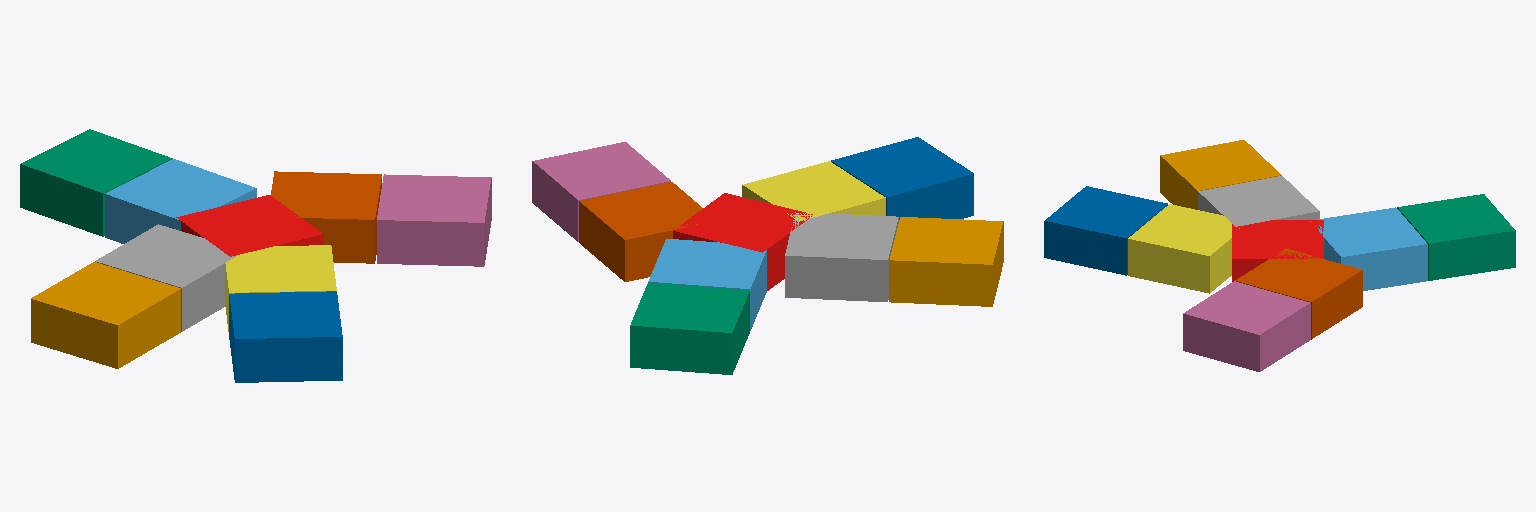
URDF robot description (Model_186):
<?xml version='1.0' encoding='UTF-8'?>
<robot name="Model_186">
  <link name="base_link">
    <inertial>
      <origin xyz="0.0 0.0 0.0" rpy="0.0 -0.0 0.0"/>
      <mass value="1.0"/>
      <inertia ixx="1.0" ixy="0.0" ixz="0.0" iyy="1.0" iyz="0.0" izz="1.0"/>
    </inertial>
    <visual>
      <geometry>
        <box size="0.67 0.67 0.3 "/>
      </geometry>
      <material name="red"/>
      <origin xyz="0.0 0.0 0.0" rpy="0.0 -0.0 0.0"/>
    </visual>
    <collision>
      <geometry>
        <box size="0.67 0.67 0.3 "/>
      </geometry>
      <origin xyz="0.0 0.0 0.0" rpy="0.0 0.0 0.0"/>
    </collision>
  </link>
  <link name="arm_0_arm1">
    <inertial>
      <origin xyz="0.0 0.34 0.0" rpy="0.0 0.0 0.0"/>
      <mass value="1.0"/>
      <inertia ixx="0.0" ixy="0.0" ixz="0.0" iyy="0.0" iyz="0.0" izz="0.0"/>
    </inertial>
    <visual>
      <geometry>
        <box size="0.67 0.67 0.3 "/>
      </geometry>
      <origin xyz="0.0 0.34 0.0" rpy="0.0 0.0 0.0"/>
    </visual>
    <collision>
      <geometry>
        <box size="0.67 0.67 0.3 "/>
      </geometry>
      <origin xyz="0.0 0.34 0.0" rpy="0.0 0.0 0.0"/>
    </collision>
  </link>
  <link name="arm_0_arm2">
    <inertial>
      <origin xyz="0.0 0.34 0.0" rpy="0.0 0.0 0.0"/>
      <mass value="1.0"/>
      <inertia ixx="0.0" ixy="0.0" ixz="0.0" iyy="0.0" iyz="0.0" izz="0.0"/>
    </inertial>
    <visual>
      <geometry>
        <box size="0.67 0.67 0.3 "/>
      </geometry>
      <origin xyz="0.0 0.34 0.0" rpy="0.0 0.0 0.0"/>
    </visual>
    <collision>
      <geometry>
        <box size="0.67 0.67 0.3 "/>
      </geometry>
      <origin xyz="0.0 0.34 0.0" rpy="0.0 0.0 0.0"/>
    </collision>
  </link>
  <link name="arm_1_arm1">
    <inertial>
      <origin xyz="0.0 0.34 0.0" rpy="0.0 0.0 0.0"/>
      <mass value="1.0"/>
      <inertia ixx="0.0" ixy="0.0" ixz="0.0" iyy="0.0" iyz="0.0" izz="0.0"/>
    </inertial>
    <visual>
      <geometry>
        <box size="0.67 0.67 0.3 "/>
      </geometry>
      <origin xyz="0.0 0.34 0.0" rpy="0.0 0.0 0.0"/>
    </visual>
    <collision>
      <geometry>
        <box size="0.67 0.67 0.3 "/>
      </geometry>
      <origin xyz="0.0 0.34 0.0" rpy="0.0 0.0 0.0"/>
    </collision>
  </link>
  <link name="arm_1_arm2">
    <inertial>
      <origin xyz="0.0 0.34 0.0" rpy="0.0 0.0 0.0"/>
      <mass value="1.0"/>
      <inertia ixx="0.0" ixy="0.0" ixz="0.0" iyy="0.0" iyz="0.0" izz="0.0"/>
    </inertial>
    <visual>
      <geometry>
        <box size="0.67 0.67 0.3 "/>
      </geometry>
      <origin xyz="0.0 0.34 0.0" rpy="0.0 0.0 0.0"/>
    </visual>
    <collision>
      <geometry>
        <box size="0.67 0.67 0.3 "/>
      </geometry>
      <origin xyz="0.0 0.34 0.0" rpy="0.0 0.0 0.0"/>
    </collision>
  </link>
  <link name="arm_2_arm1">
    <inertial>
      <origin xyz="0.0 0.34 0.0" rpy="0.0 0.0 0.0"/>
      <mass value="1.0"/>
      <inertia ixx="0.0" ixy="0.0" ixz="0.0" iyy="0.0" iyz="0.0" izz="0.0"/>
    </inertial>
    <visual>
      <geometry>
        <box size="0.67 0.67 0.3 "/>
      </geometry>
      <origin xyz="0.0 0.34 0.0" rpy="0.0 0.0 0.0"/>
    </visual>
    <collision>
      <geometry>
        <box size="0.67 0.67 0.3 "/>
      </geometry>
      <origin xyz="0.0 0.34 0.0" rpy="0.0 0.0 0.0"/>
    </collision>
  </link>
  <link name="arm_2_arm2">
    <inertial>
      <origin xyz="0.0 0.34 0.0" rpy="0.0 0.0 0.0"/>
      <mass value="1.0"/>
      <inertia ixx="0.0" ixy="0.0" ixz="0.0" iyy="0.0" iyz="0.0" izz="0.0"/>
    </inertial>
    <visual>
      <geometry>
        <box size="0.67 0.67 0.3 "/>
      </geometry>
      <origin xyz="0.0 0.34 0.0" rpy="0.0 0.0 0.0"/>
    </visual>
    <collision>
      <geometry>
        <box size="0.67 0.67 0.3 "/>
      </geometry>
      <origin xyz="0.0 0.34 0.0" rpy="0.0 0.0 0.0"/>
    </collision>
  </link>
  <link name="arm_3_arm1">
    <inertial>
      <origin xyz="0.0 0.34 0.0" rpy="0.0 0.0 0.0"/>
      <mass value="1.0"/>
      <inertia ixx="0.0" ixy="0.0" ixz="0.0" iyy="0.0" iyz="0.0" izz="0.0"/>
    </inertial>
    <visual>
      <geometry>
        <box size="0.67 0.67 0.3 "/>
      </geometry>
      <origin xyz="0.0 0.34 0.0" rpy="0.0 0.0 0.0"/>
    </visual>
    <collision>
      <geometry>
        <box size="0.67 0.67 0.3 "/>
      </geometry>
      <origin xyz="0.0 0.34 0.0" rpy="0.0 0.0 0.0"/>
    </collision>
  </link>
  <link name="arm_3_arm2">
    <inertial>
      <origin xyz="0.0 0.34 0.0" rpy="0.0 0.0 0.0"/>
      <mass value="1.0"/>
      <inertia ixx="0.0" ixy="0.0" ixz="0.0" iyy="0.0" iyz="0.0" izz="0.0"/>
    </inertial>
    <visual>
      <geometry>
        <box size="0.67 0.67 0.3 "/>
      </geometry>
      <origin xyz="0.0 0.34 0.0" rpy="0.0 0.0 0.0"/>
    </visual>
    <collision>
      <geometry>
        <box size="0.67 0.67 0.3 "/>
      </geometry>
      <origin xyz="0.0 0.34 0.0" rpy="0.0 0.0 0.0"/>
    </collision>
  </link>
  <joint name="arm_0_jointBase" type="fixed">
    <limit effort="1.57" velocity="1.57" lower="-1.57" upper="1.57"/>
    <parent link="base_link"/>
    <child link="arm_0_arm1"/>
    <axis xyz="1. 0. 0."/>
    <origin xyz="0.0 0.34 0.0" rpy="0.0 0.0 0.35"/>
  </joint>
  <joint name="arm_0_joint1" type="revolute">
    <limit effort="1.57" velocity="1.57" lower="-1.57" upper="1.57"/>
    <parent link="arm_0_arm1"/>
    <child link="arm_0_arm2"/>
    <axis xyz="1. 0. 0."/>
    <origin xyz="0.0 0.68 0.0" rpy="0.0 0.0 0.0"/>
  </joint>
  <joint name="arm_1_jointBase" type="fixed">
    <limit effort="1.57" velocity="1.57" lower="-1.57" upper="1.57"/>
    <parent link="base_link"/>
    <child link="arm_1_arm1"/>
    <axis xyz="1. 0. 0."/>
    <origin xyz="0.0 -0.34 0.0" rpy="0.0 0.0 2.67"/>
  </joint>
  <joint name="arm_1_joint1" type="revolute">
    <limit effort="1.57" velocity="1.57" lower="-1.57" upper="1.57"/>
    <parent link="arm_1_arm1"/>
    <child link="arm_1_arm2"/>
    <axis xyz="1. 0. 0."/>
    <origin xyz="0.0 0.68 0.0" rpy="0.0 0.0 0.0"/>
  </joint>
  <joint name="arm_2_jointBase" type="fixed">
    <limit effort="1.57" velocity="1.57" lower="-1.57" upper="1.57"/>
    <parent link="base_link"/>
    <child link="arm_2_arm1"/>
    <axis xyz="1. 0. 0."/>
    <origin xyz="0.34 0.34 0.0" rpy="0.0 0.0 -2.16"/>
  </joint>
  <joint name="arm_2_joint1" type="revolute">
    <limit effort="1.57" velocity="1.57" lower="-1.57" upper="1.57"/>
    <parent link="arm_2_arm1"/>
    <child link="arm_2_arm2"/>
    <axis xyz="1. 0. 0."/>
    <origin xyz="0.0 0.68 0.0" rpy="0.0 0.0 0.0"/>
  </joint>
  <joint name="arm_3_jointBase" type="fixed">
    <limit effort="1.57" velocity="1.57" lower="-1.57" upper="1.57"/>
    <parent link="base_link"/>
    <child link="arm_3_arm1"/>
    <axis xyz="1. 0. 0."/>
    <origin xyz="-0.34 0.0 0.0" rpy="0.0 0.0 1.99"/>
  </joint>
  <joint name="arm_3_joint1" type="revolute">
    <limit effort="1.57" velocity="1.57" lower="-1.57" upper="1.57"/>
    <parent link="arm_3_arm1"/>
    <child link="arm_3_arm2"/>
    <axis xyz="1. 0. 0."/>
    <origin xyz="0.0 0.68 0.0" rpy="0.0 0.0 0.0"/>
  </joint>
  <material name="red">
    <color rgba="0.969 0.129 0.122 1.   "/>
  </material>
</robot>

--- What the picture shows (computed from the rendered views, not written in the file) ---
Views: 3 orthographic renders of the robot side by side, from view 1: azimuth 30°, elevation 25°; view 2: azimuth 150°, elevation 25°; view 3: azimuth 270°, elevation 25°.
Robot: Model_186 — 9 links, 8 joints (4 revolute, 4 fixed); root link base_link; default pose: all joints at 0.
Links seen in each view (by area): view 1: arm_3_arm2, arm_2_arm2, arm_1_arm2, arm_0_arm2, arm_2_arm1, arm_0_arm1, arm_3_arm1, base_link, arm_1_arm1; view 2: arm_0_arm2, arm_3_arm2, arm_3_arm1, arm_2_arm1, arm_1_arm2, arm_2_arm2, base_link, arm_0_arm1, arm_1_arm1; view 3: arm_2_arm2, arm_1_arm1, arm_0_arm2, arm_1_arm2, arm_0_arm1, arm_2_arm1, arm_3_arm2, arm_3_arm1, base_link.
Boxes of the visible links, x1,y1,x2,y2 form: arm_3_arm2: (31,262,180,368); arm_2_arm2: (377,174,491,266); arm_1_arm2: (229,291,342,382); arm_0_arm2: (20,129,172,236); arm_2_arm1: (271,171,381,263); arm_0_arm1: (105,159,256,243); arm_3_arm1: (95,224,237,331); base_link: (176,195,323,256); arm_1_arm1: (225,245,336,331); arm_0_arm2: (630,282,749,374); arm_3_arm2: (889,217,1003,306); arm_3_arm1: (785,212,898,301); arm_2_arm1: (579,182,707,281); arm_1_arm2: (831,137,973,219); arm_2_arm2: (532,142,670,241); base_link: (673,193,812,290); arm_0_arm1: (648,239,766,330); arm_1_arm1: (742,161,885,221); arm_2_arm2: (1183,281,1310,371); arm_1_arm1: (1128,204,1239,293); arm_0_arm2: (1397,194,1515,280); arm_1_arm2: (1044,186,1167,275); arm_0_arm1: (1310,207,1427,290); arm_2_arm1: (1235,248,1362,339); arm_3_arm2: (1160,140,1281,209); arm_3_arm1: (1198,176,1319,226); base_link: (1232,220,1323,281).
Size in the robot's own frame: 3.37 by 3.43 by 0.3 metres.
Geometry: primitives only (box / cylinder / sphere), no mesh files.